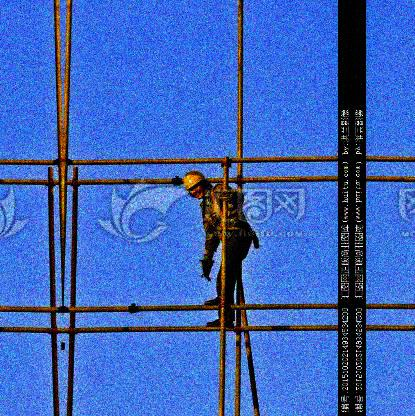helmet: (182, 170, 208, 200)
